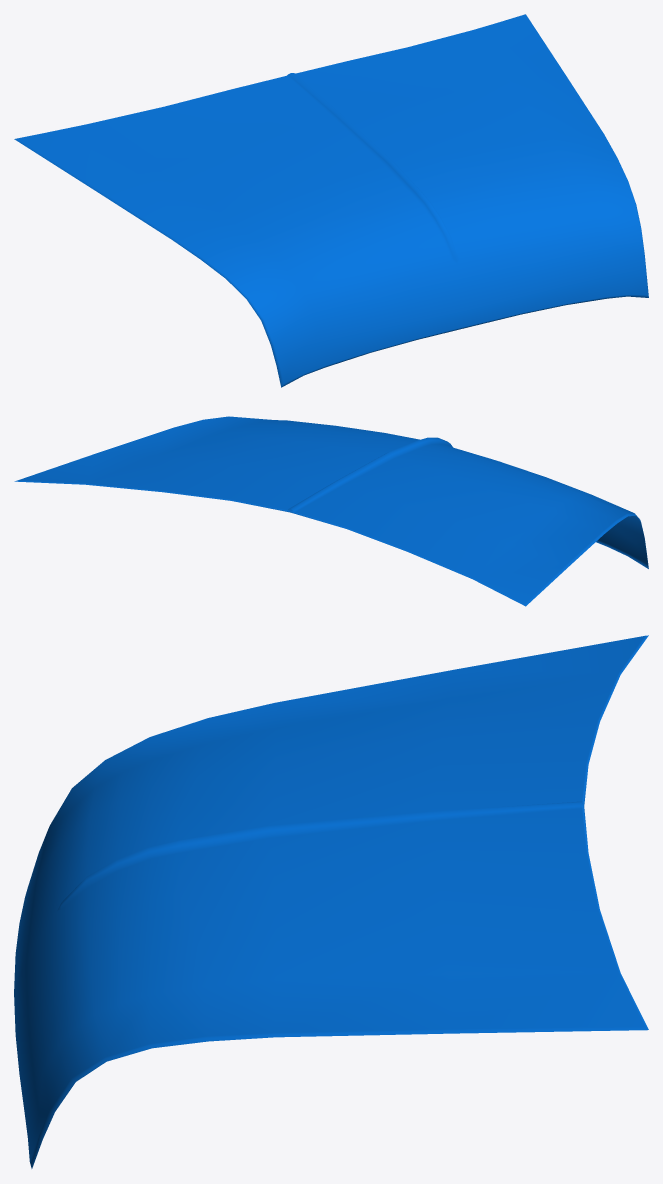
The model's file is Mini_Bonnet01_Duco.fbx.
3 renders of one model, top to bottom at view 1: azimuth 30°, elevation 25°; view 2: azimuth 150°, elevation 25°; view 3: azimuth 270°, elevation 25°, orthographic. The views are drawn at different scales.
Visible parts, largest first — view 1: Mini_Bonnet01_Duco; view 2: Mini_Bonnet01_Duco; view 3: Mini_Bonnet01_Duco.
Part boxes in pixels (x1,y1,x2,y2): Mini_Bonnet01_Duco: (14,14,648,387); Mini_Bonnet01_Duco: (14,416,648,606); Mini_Bonnet01_Duco: (14,635,648,1168).
Bounding box in the file's own units: 96.49 × 25.67 × 65.59.
